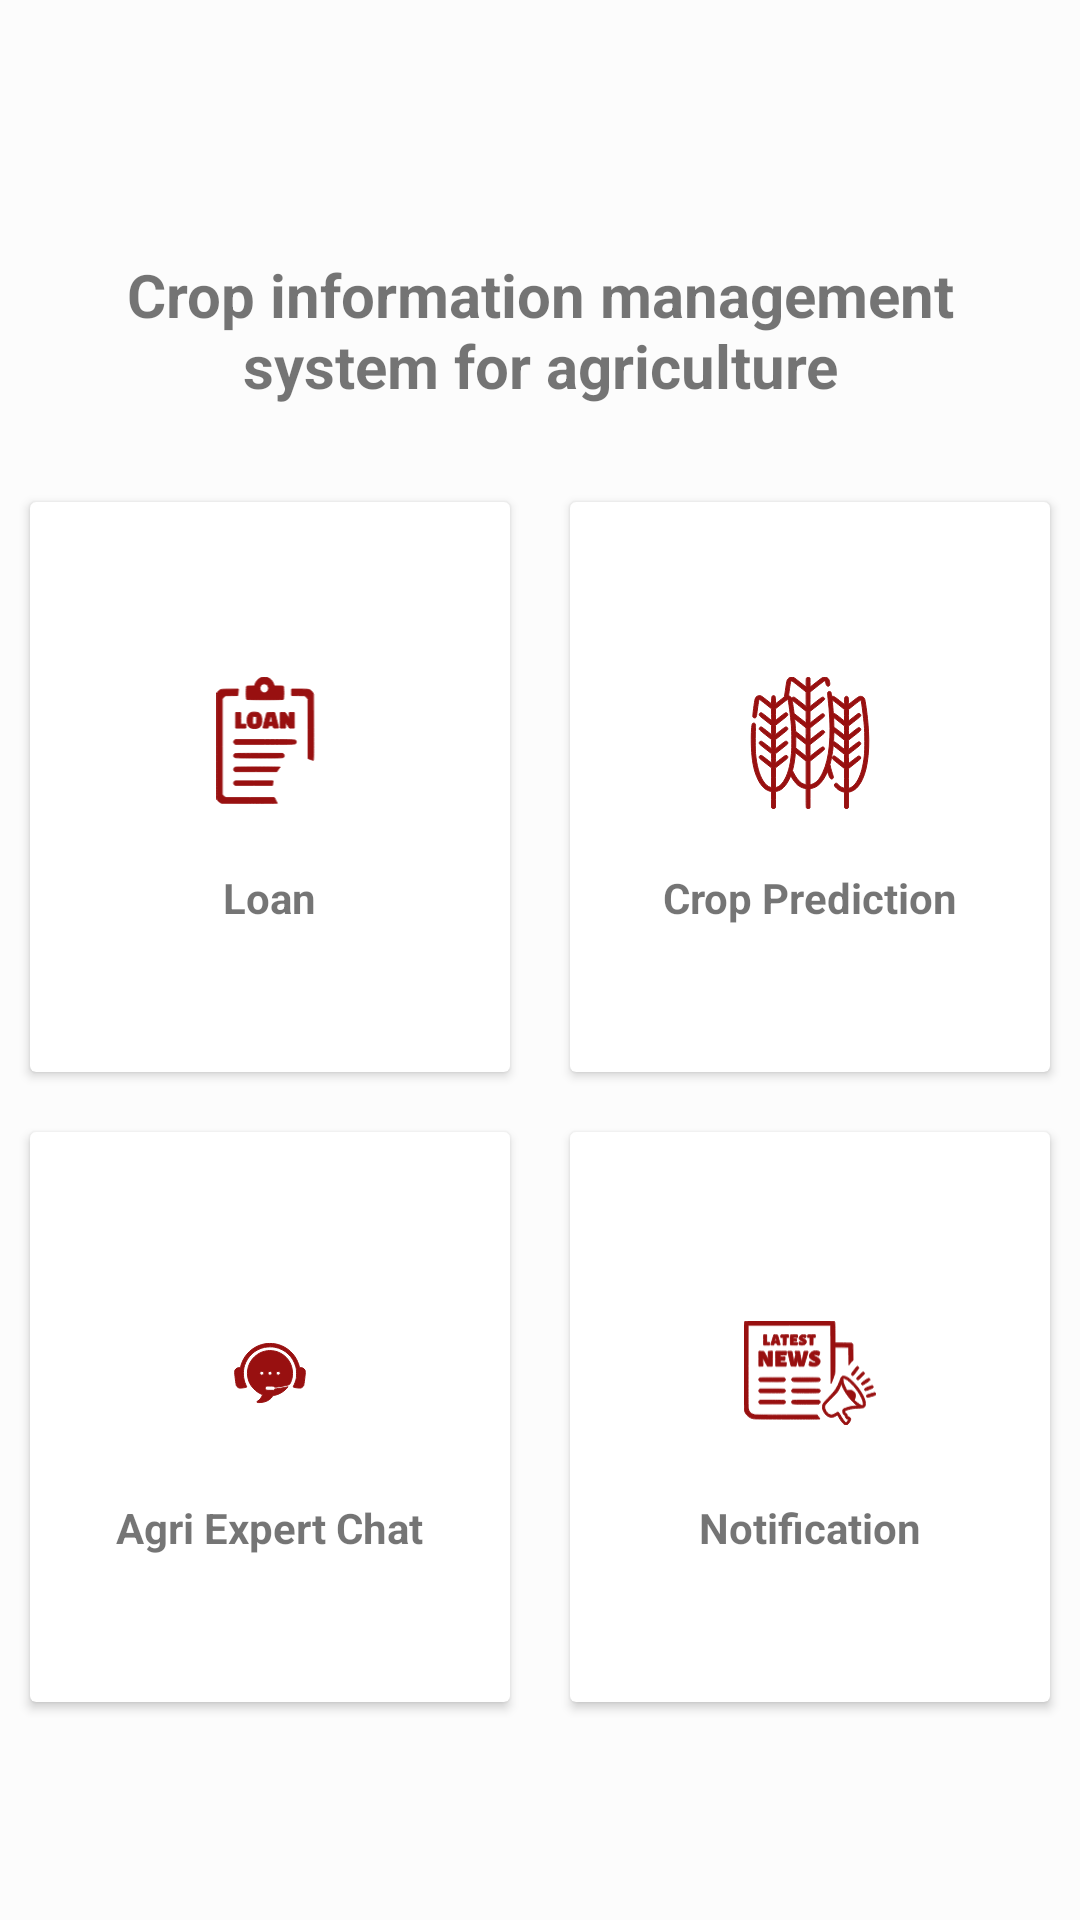

Where icons sit on this 1080 × 1920 app screen, as (x1, y1, x2, y2):
chaticon: (234, 1343, 306, 1403)
cropicon: (750, 677, 870, 809)
